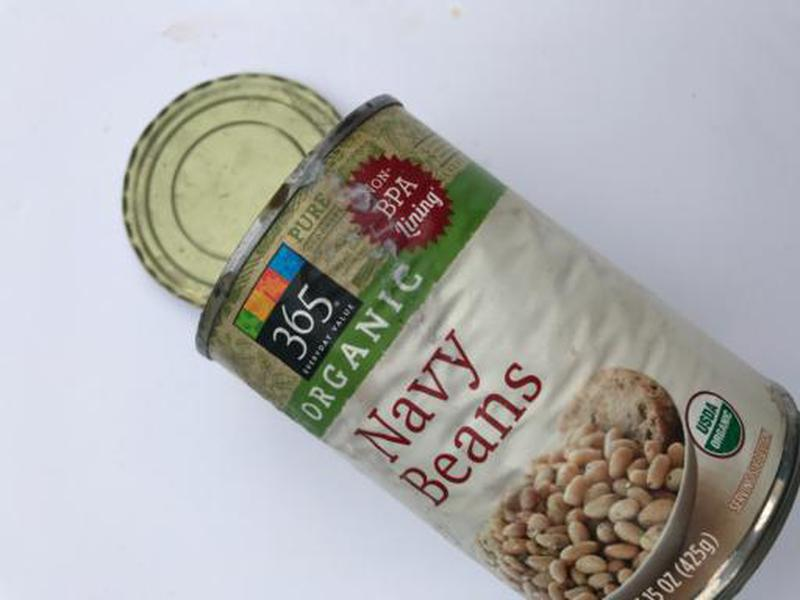can: (105, 66, 800, 600)
